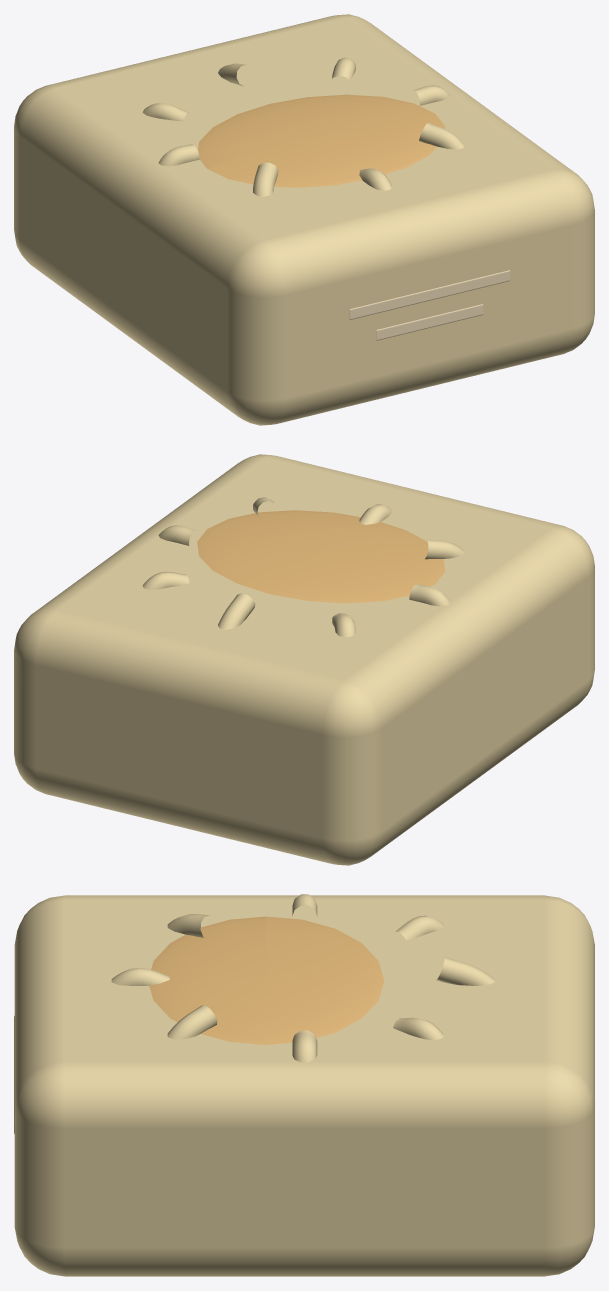
File: torn-grain-bag.glb
3 renders of one model, top to bottom at view 1: azimuth 30°, elevation 25°; view 2: azimuth 150°, elevation 25°; view 3: azimuth 270°, elevation 25°, orthographic. The views are drawn at different scales.
Visible parts, largest first — view 1: cloth, crumb, cream; view 2: cloth, crumb; view 3: cloth, crumb.
Part boxes in pixels (box(x1,y1,x2,y2)): cloth: box(14, 14, 594, 425); crumb: box(198, 94, 445, 187); cream: box(349, 270, 510, 340); cloth: box(14, 454, 594, 865); crumb: box(197, 510, 445, 603); cloth: box(14, 894, 594, 1276); crumb: box(149, 916, 384, 1044).
Size of the model in its own units: 2.5 by 1.33 by 3.
